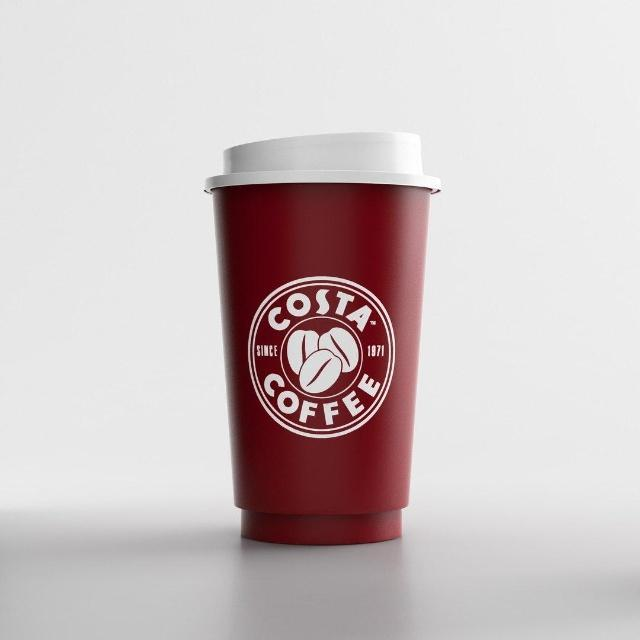paper_cup: (183, 124, 458, 554)
